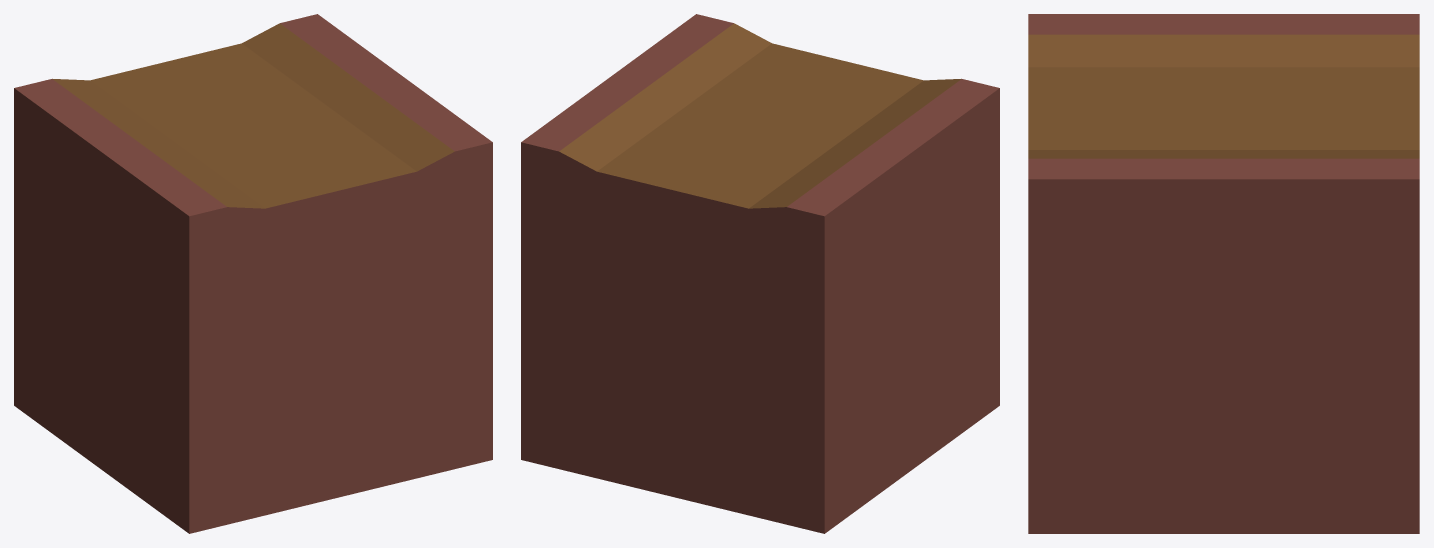
The model's file is Dirt_Path_Straight.glb.
3 renders of one model, left to right at view 1: azimuth 30°, elevation 25°; view 2: azimuth 150°, elevation 25°; view 3: azimuth 270°, elevation 25°, orthographic. The views are drawn at different scales.
Parts seen in each view (by area): view 1: Dirt Path Straight; view 2: Dirt Path Straight; view 3: Dirt Path Straight.
Part boxes in pixels (box(x1,y1,x2,y2)): Dirt Path Straight: box(14, 14, 492, 533); Dirt Path Straight: box(521, 14, 999, 533); Dirt Path Straight: box(1028, 14, 1419, 533).
Bounding box in the file's own units: 2 × 2 × 2.
1 material, 1 textured.
